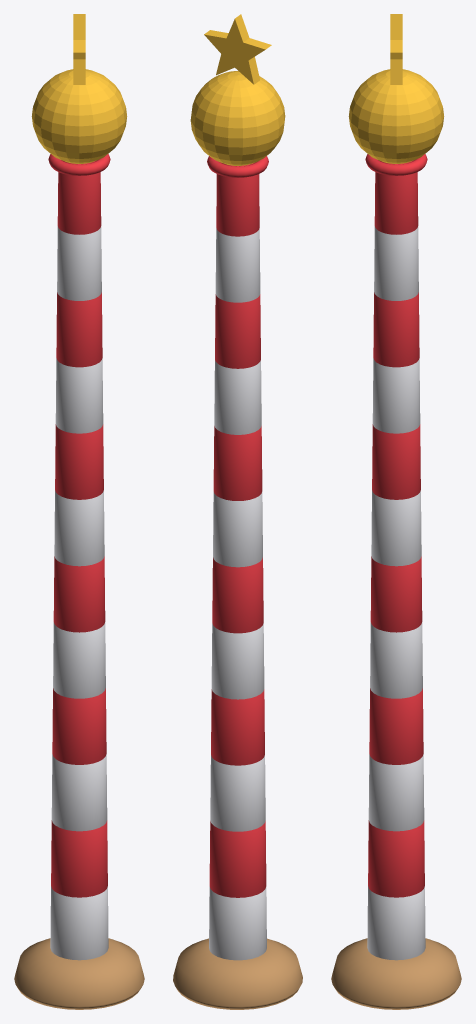
Rendered from MechaMarathonTower.obj.
The picture shows the model from 3 angles, left to right: view 1: azimuth 90°, elevation 25°; view 2: azimuth 150°, elevation 25°; view 3: azimuth 270°, elevation 25°; orthographic projection.
Visible parts, largest first — view 1: Stripes, Pole, Gold, Base; view 2: Stripes, Pole, Gold, Base; view 3: Stripes, Pole, Gold, Base.
Part boxes in pixels (left/top/right/bottom): Stripes: left=48, top=154, right=110, bottom=897; Pole: left=50, top=226, right=108, bottom=960; Gold: left=31, top=14, right=127, bottom=163; Base: left=14, top=938, right=144, bottom=1009; Stripes: left=207, top=156, right=268, bottom=897; Pole: left=209, top=228, right=266, bottom=960; Gold: left=190, top=14, right=285, bottom=165; Base: left=173, top=938, right=302, bottom=1009; Stripes: left=365, top=154, right=427, bottom=897; Pole: left=367, top=226, right=425, bottom=960; Gold: left=348, top=14, right=444, bottom=163; Base: left=331, top=938, right=461, bottom=1009.
Size of the model in its own units: 2.6 by 21.3 by 2.6.
